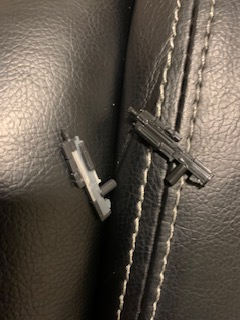rifle: (122, 101, 215, 191), (56, 128, 118, 217)
